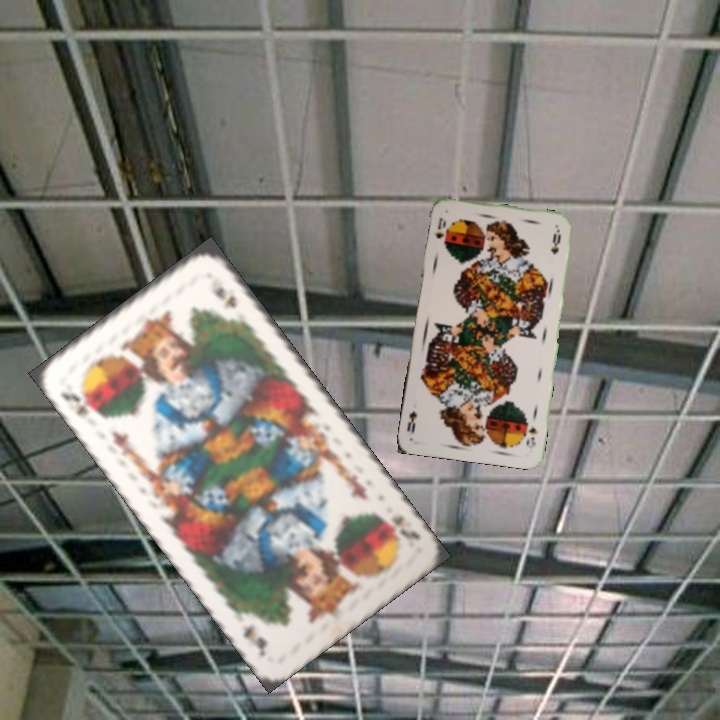SK: (55, 386, 104, 422), (377, 510, 423, 543)
SO: (522, 418, 540, 452), (430, 213, 449, 241)
